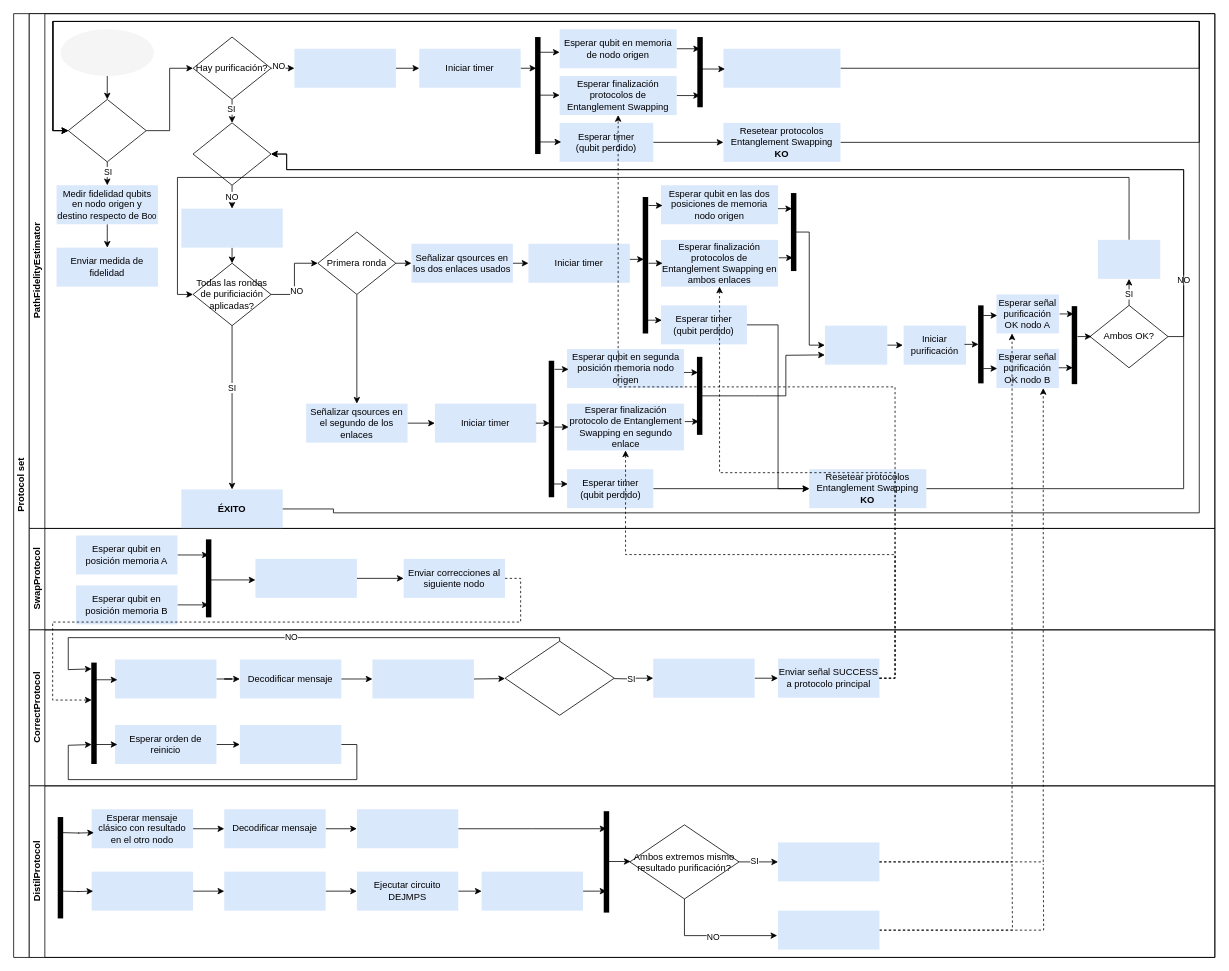
Image size: 1229x971. Some labels were removed from this diagram. The centre of each missing label's shape, as x and y in pixels:
"Aplicar correcciones" goes at point 703,677.
"Añadir corrección a la lista" goes at point 422,678.
"Desplanificar timer" goes at point 855,344.
"Desplanificar timer ÉXITO" goes at point 781,67.
"Enviar resultado al otro nodo" goes at point 532,890.
"Enviar señal KO a protocolo superior" goes at point 828,929.
"Enviar señal OK a protocolo superior" goes at point 828,861.
"Esperar por corrección" goes at point 165,678.
"Esperar señalización inicio protocolo superior" goes at point 142,890.
"Guardar resultado purificación en el otro nodo" goes at point 407,828.
"Identificar posiciones de memoria en las que hacer purificación" goes at point 274,890.
"Incrementar ronda purificación" goes at point 1128,258.
"Inicializar contadores" goes at point 290,744.
"Inicializar purificación" goes at point 231,227.
"Inicio medida de fidelidad" goes at point 107,52.
"Purificación OK?" goes at point 231,153.
"Realizar medida en base Bell" goes at point 305,577.
"Recibidas las correcciones de todos los nodos en el camino?" goes at point 559,677.
"Se ha completado con éxito?" goes at point 106,130.
"Señalizar qsources en el enlace usado" goes at point 344,67.
